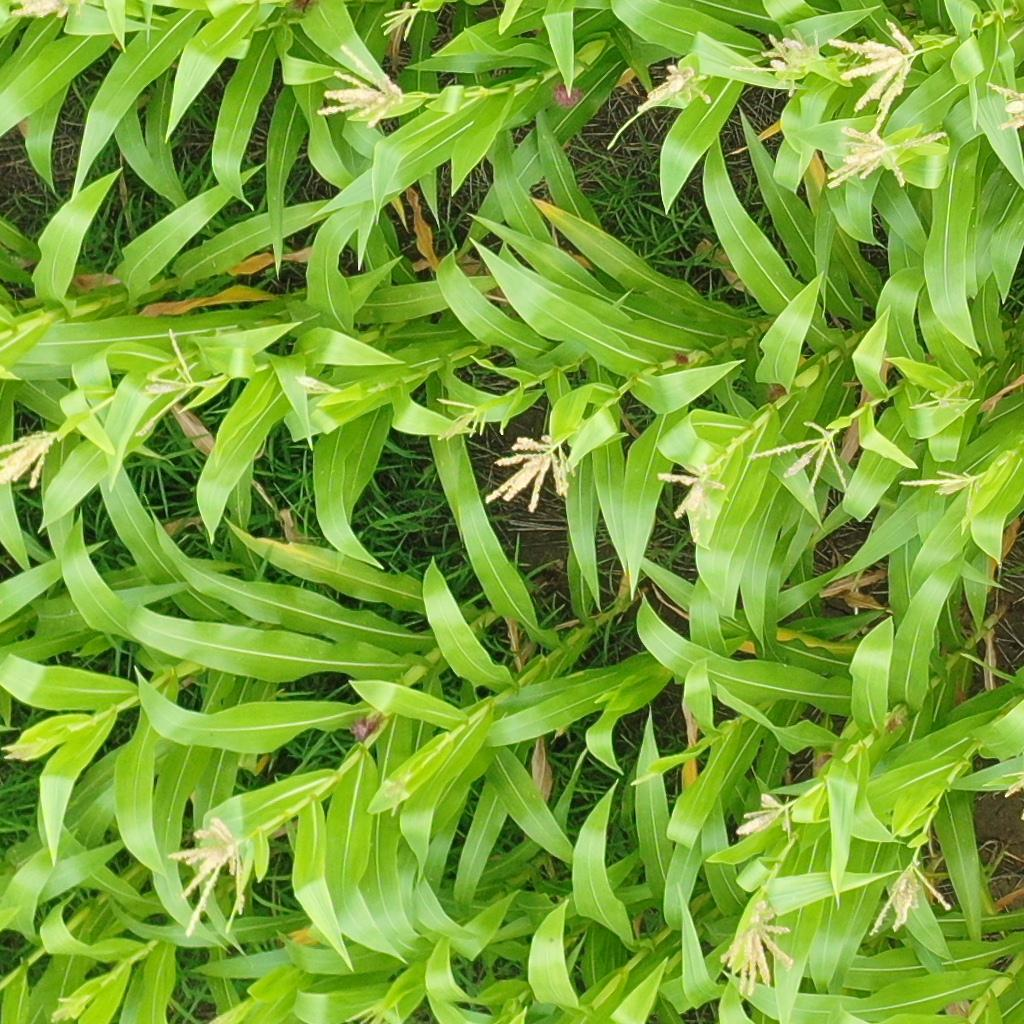Tassel: (165, 816, 257, 939), (825, 21, 923, 135), (129, 329, 228, 437), (605, 60, 716, 152), (749, 419, 851, 502), (825, 123, 950, 190), (719, 899, 795, 998), (317, 44, 405, 129), (486, 434, 579, 513), (865, 861, 953, 939), (656, 465, 728, 545), (731, 33, 805, 98), (898, 469, 983, 517), (1, 430, 60, 492), (736, 793, 798, 842), (435, 398, 492, 443), (982, 81, 1024, 131), (908, 391, 973, 420), (378, 1, 424, 41), (382, 769, 415, 819), (781, 30, 828, 65), (9, 1, 81, 20), (345, 1001, 401, 1024), (1, 738, 50, 762), (51, 996, 87, 1022), (295, 374, 341, 393), (1000, 772, 1024, 797)
